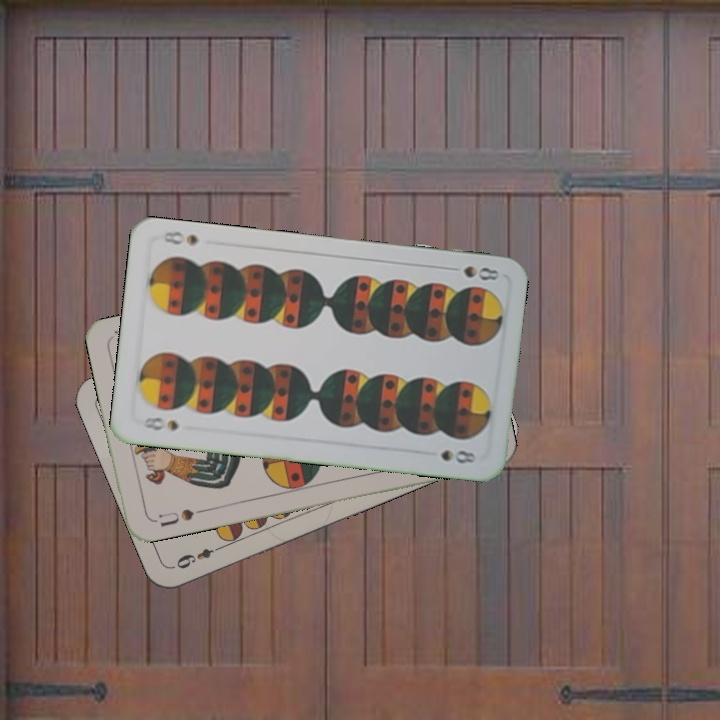E9: (169, 541, 226, 572)
S8: (443, 262, 501, 283), (138, 413, 182, 433)
SU: (155, 504, 207, 530)
